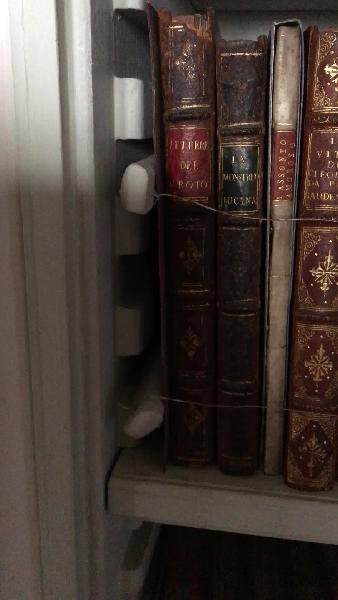Aa6-1: (145, 2, 220, 473)
Aa6-2: (211, 25, 267, 482)
Aa6-3: (259, 10, 304, 486)
Aa6-4: (278, 21, 338, 502)
